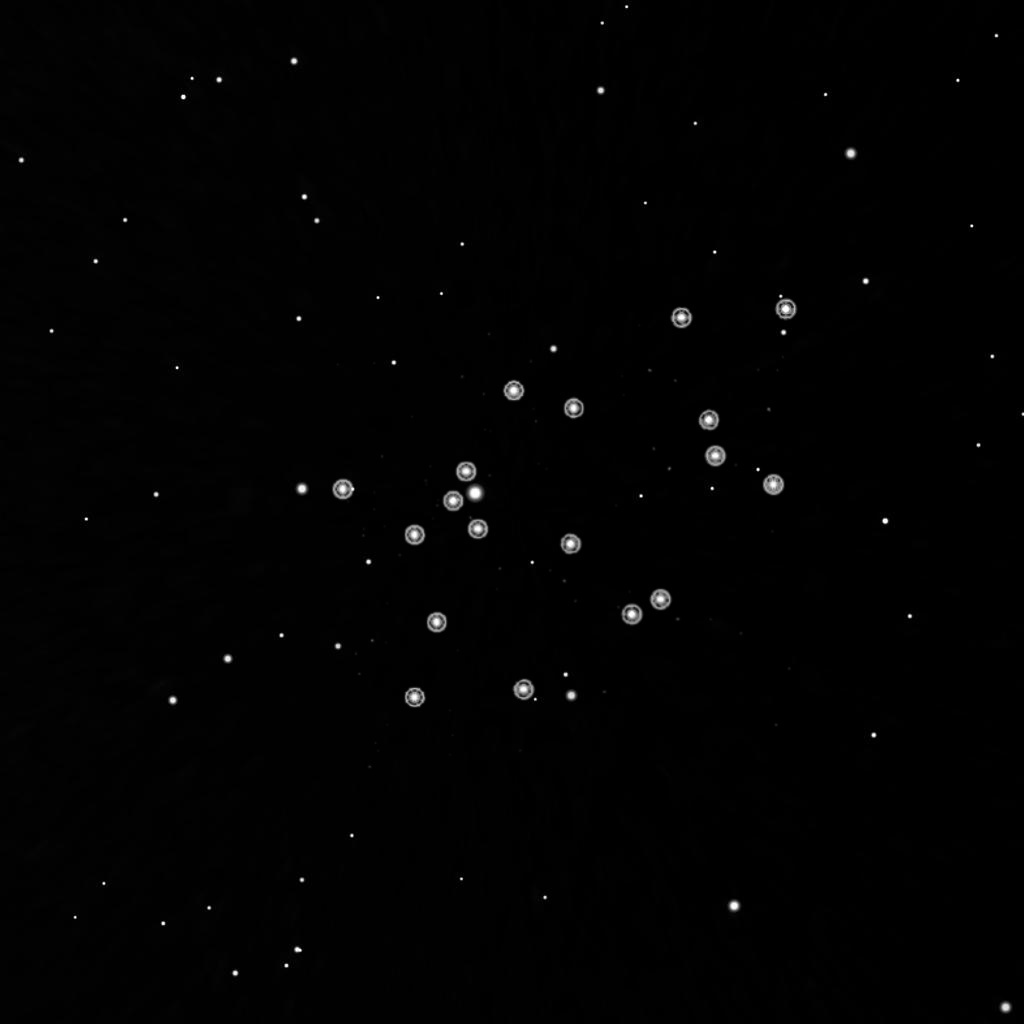canis_major: (399, 376, 597, 548)
